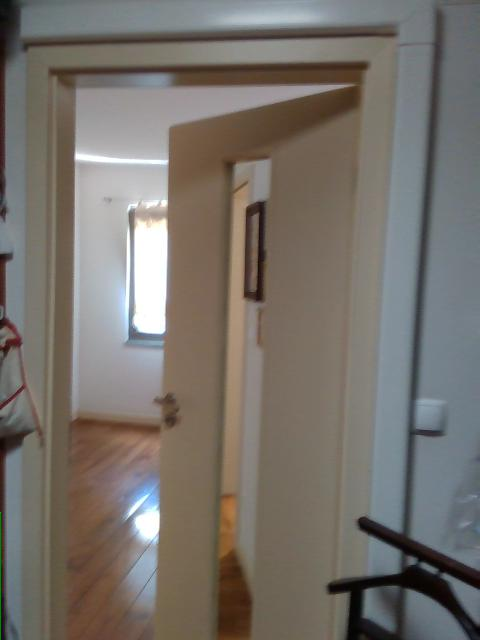semi_door: (21, 24, 399, 639)
